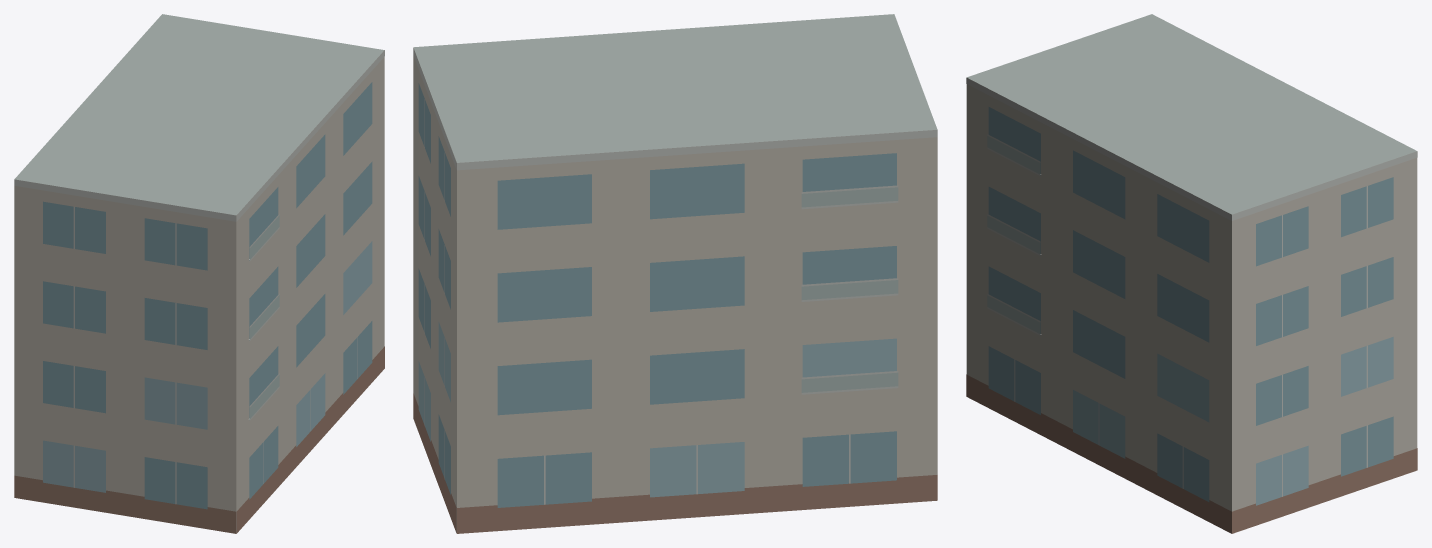
The model's file is survey-upis-32951070.glb.
The picture shows the model from 3 angles, left to right: view 1: azimuth 30°, elevation 25°; view 2: azimuth 150°, elevation 25°; view 3: azimuth 270°, elevation 25°; orthographic projection. The views are drawn at different scales.
Parts seen in each view (by area): view 1: survey-upis-32951070.tmp; view 2: survey-upis-32951070.tmp; view 3: survey-upis-32951070.tmp.
Boxes of the visible parts, bbox=[...] form: survey-upis-32951070.tmp: bbox=[14, 14, 384, 533]; survey-upis-32951070.tmp: bbox=[413, 14, 937, 533]; survey-upis-32951070.tmp: bbox=[966, 14, 1417, 533].
Bounding box in the file's own units: 16.46 × 12.2 × 15.63.
